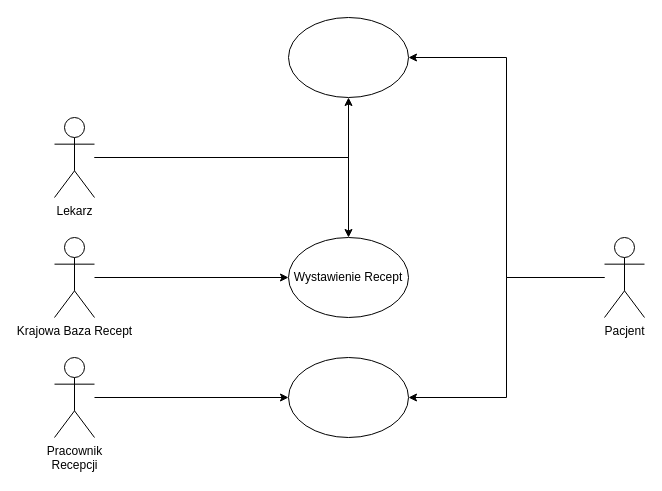
Some shapes in this 662 by 491 pixel diagram are drawn without their labels. Here are the shapes that lost their labels. From the top down, the centre of each, then its label:
At point (348, 57): "Wizyta Lekarska".
At point (348, 397): "Rejestracja Pacjenta".
